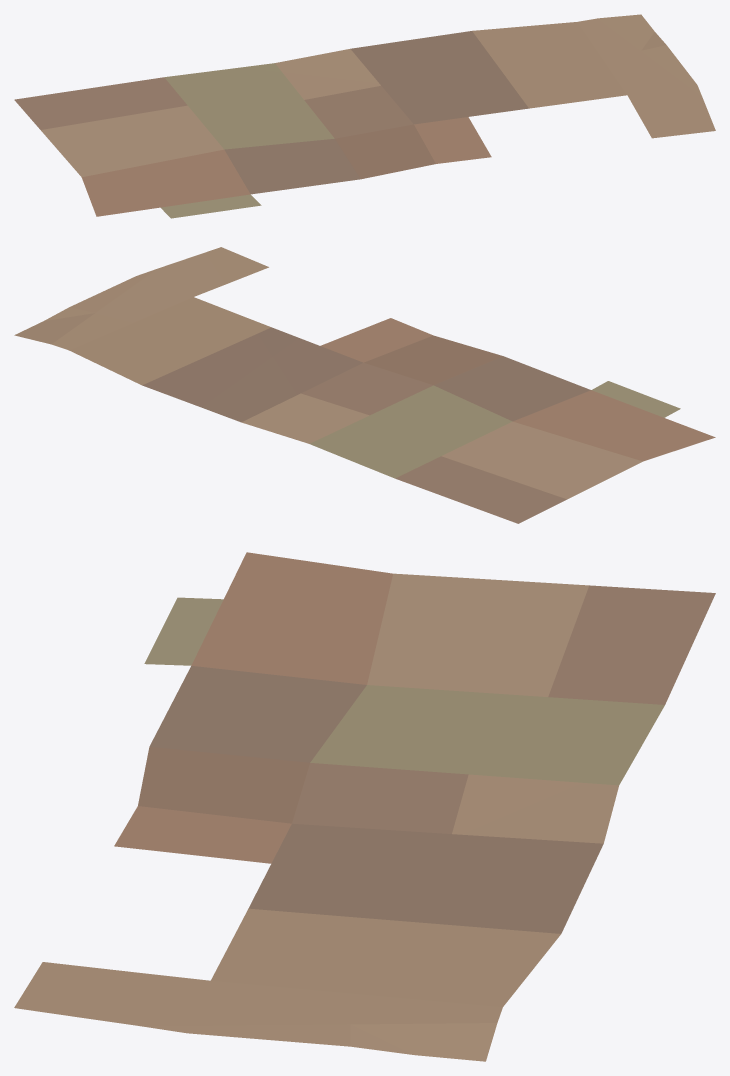
File: farm_28_29_soil.glb
The picture shows the model from 3 angles, top to bottom: view 1: azimuth 30°, elevation 25°; view 2: azimuth 150°, elevation 25°; view 3: azimuth 270°, elevation 25°; orthographic projection. The views are drawn at different scales.
Visible parts, largest first — view 1: geometry_0; view 2: geometry_0; view 3: geometry_0.
Boxes of the visible parts, x1,y1,x2,y2 form: geometry_0: (14,14,715,218); geometry_0: (14,247,715,523); geometry_0: (14,552,715,1061).
Size of the model in its own units: 285 by 1.95 by 165.
